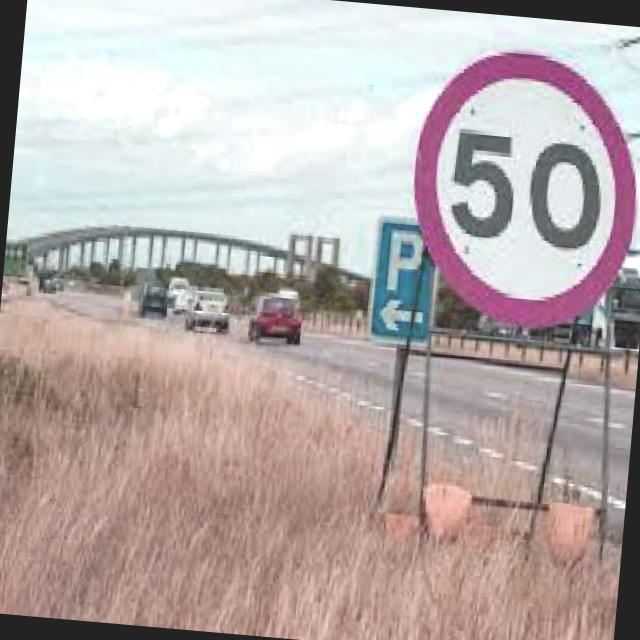Ograniczenie predkosci do 50: (410, 45, 640, 333)
